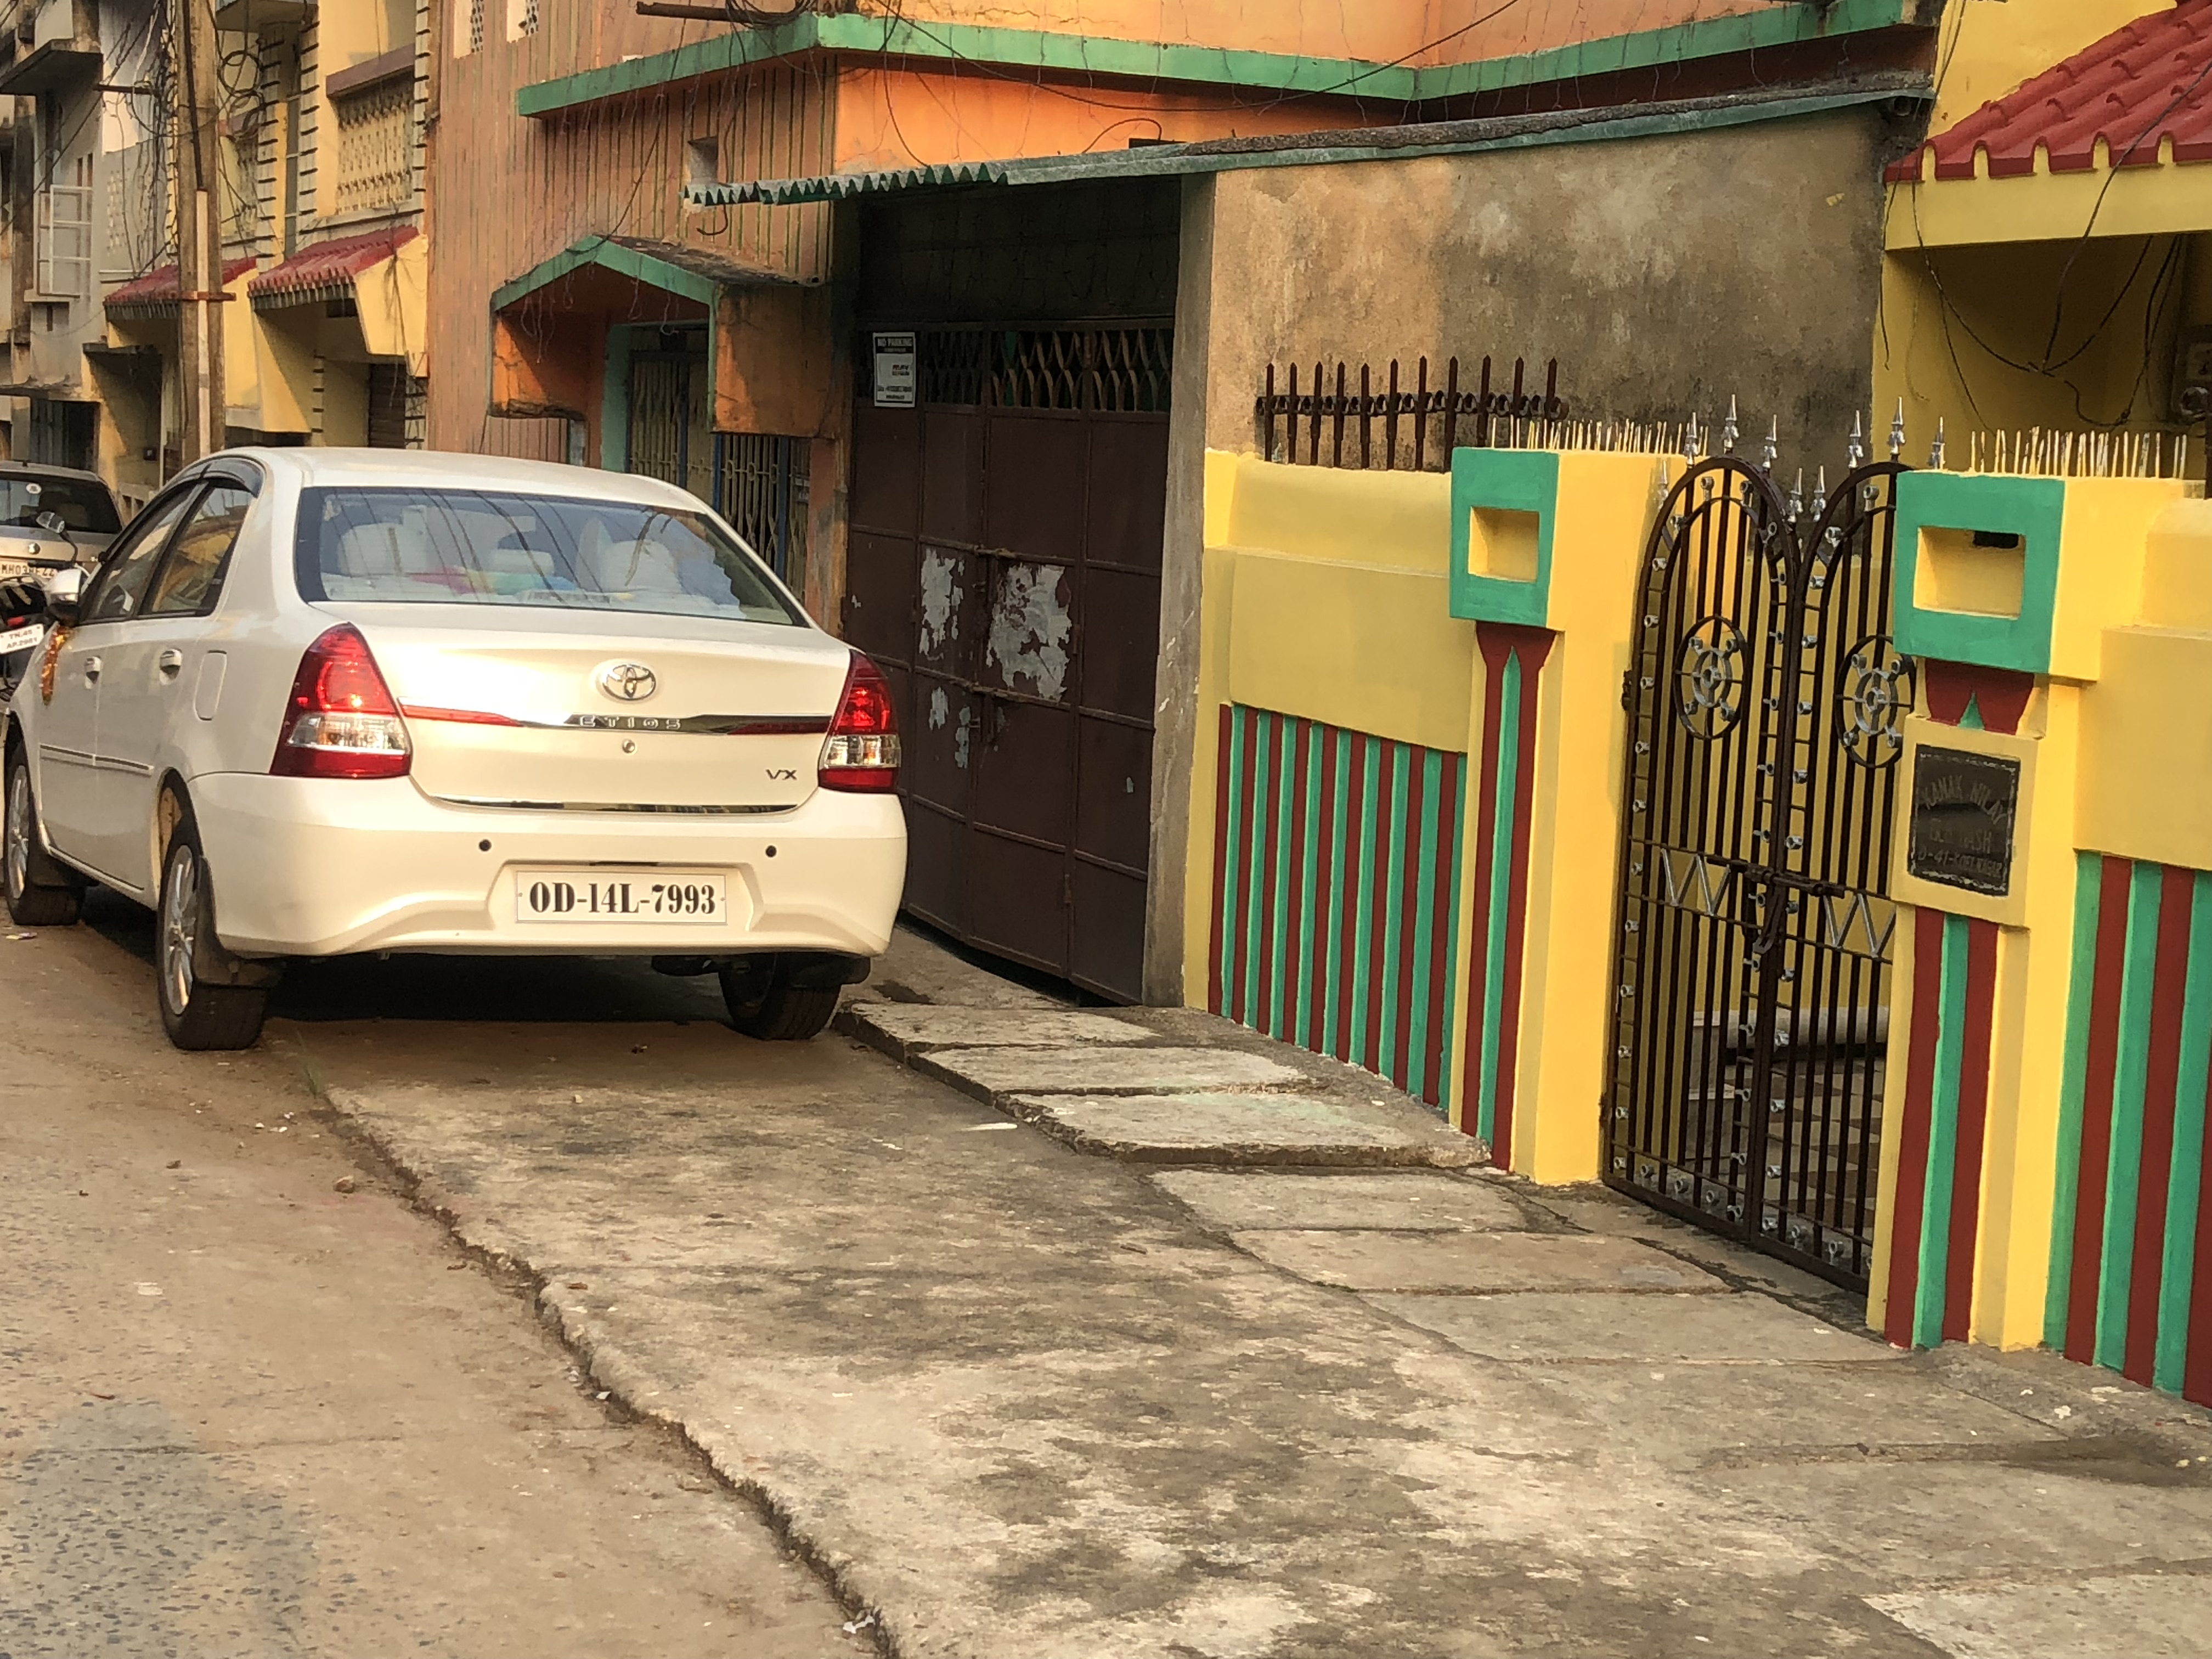licenseplate: (510, 863, 740, 941)
